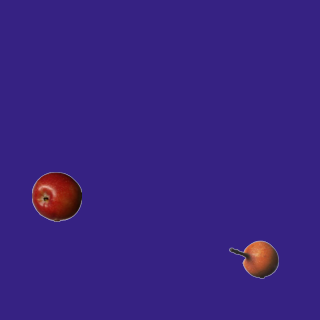Apple Braeburn: (31, 171, 81, 221)
Granadilla: (228, 234, 278, 284)
